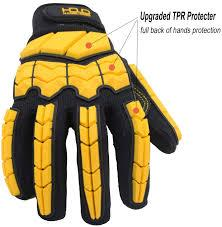gloves: (1, 2, 182, 225)
